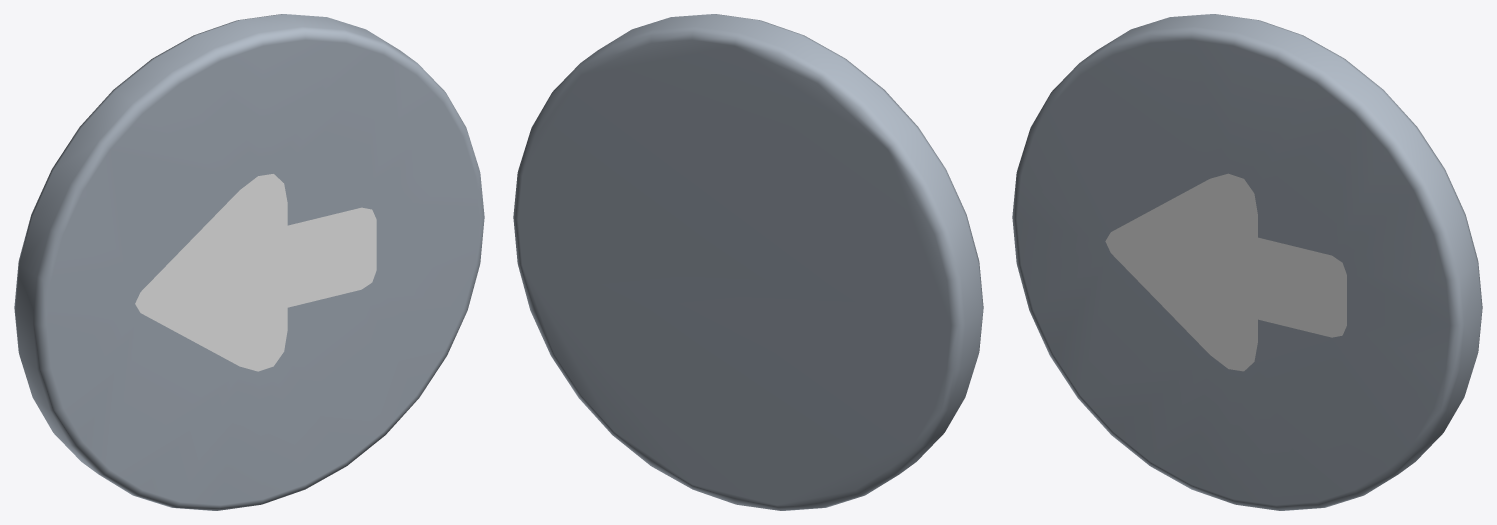
The model's file is mbx-guidense_arrow-left_gray.glb.
3 renders of one model, left to right at view 1: azimuth 30°, elevation 25°; view 2: azimuth 150°, elevation 25°; view 3: azimuth 330°, elevation 25°, orthographic.
Visible parts, largest first — view 1: mbx-guidense_arrow-left_gray; view 2: mbx-guidense_arrow-left_gray; view 3: mbx-guidense_arrow-left_gray.
Part boxes in pixels (x1,y1,x2,y2): mbx-guidense_arrow-left_gray: [14, 14, 484, 510]; mbx-guidense_arrow-left_gray: [513, 14, 983, 510]; mbx-guidense_arrow-left_gray: [1012, 14, 1482, 510].
Bounding box in the file's own units: 1.5 × 1.5 × 0.16.
